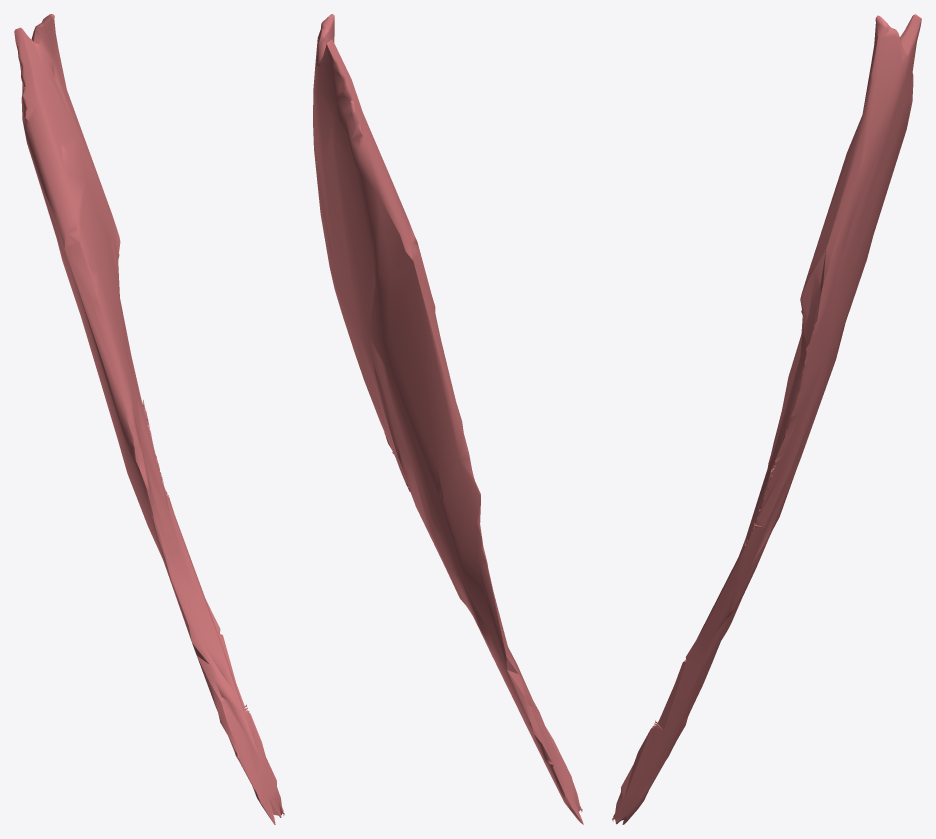
The picture shows the model from 3 angles, left to right: view 1: azimuth 90°, elevation 25°; view 2: azimuth 150°, elevation 25°; view 3: azimuth 270°, elevation 25°; orthographic projection. The views are drawn at different scales.
Visible parts, largest first — view 1: FJ1518; view 2: FJ1518; view 3: FJ1518.
Boxes of the visible parts, bbox=[...] form: FJ1518: bbox=[14, 14, 284, 824]; FJ1518: bbox=[313, 14, 583, 824]; FJ1518: bbox=[612, 14, 921, 824].
Size of the model in its own units: 0.0399 by 0.2118 by 0.0684.
